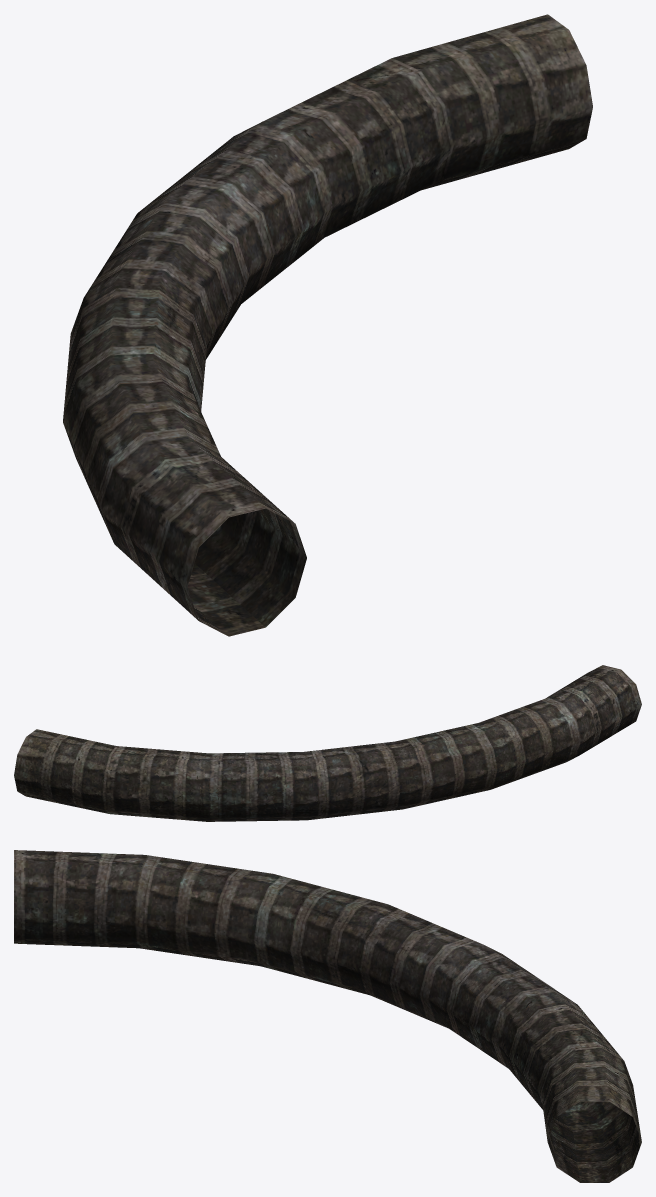
File: leech_cable_90_right_long.dae
3 renders of one model, top to bottom at view 1: azimuth 30°, elevation 25°; view 2: azimuth 150°, elevation 25°; view 3: azimuth 270°, elevation 25°, orthographic. The views are drawn at different scales.
Visible parts, largest first — view 1: tentacle_leech_cable_90_right_long__2_; view 2: tentacle_leech_cable_90_right_long__2_; view 3: tentacle_leech_cable_90_right_long__2_.
Part boxes in pixels (bbox=[...]): tentacle_leech_cable_90_right_long__2_: bbox=[63, 14, 592, 636]; tentacle_leech_cable_90_right_long__2_: bbox=[14, 665, 641, 821]; tentacle_leech_cable_90_right_long__2_: bbox=[14, 850, 641, 1182].
Bounding box in the file's own units: 1.35 × 0.1932 × 1.35.
